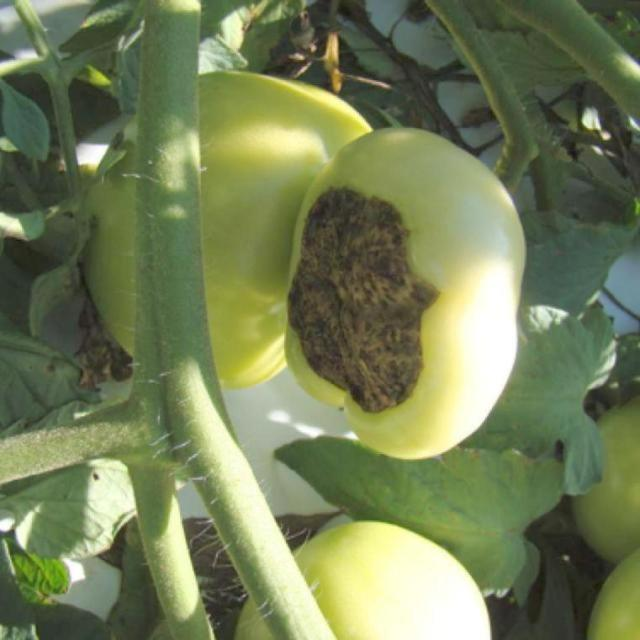Blossom End Rot Fruit: (188, 120, 293, 276)
